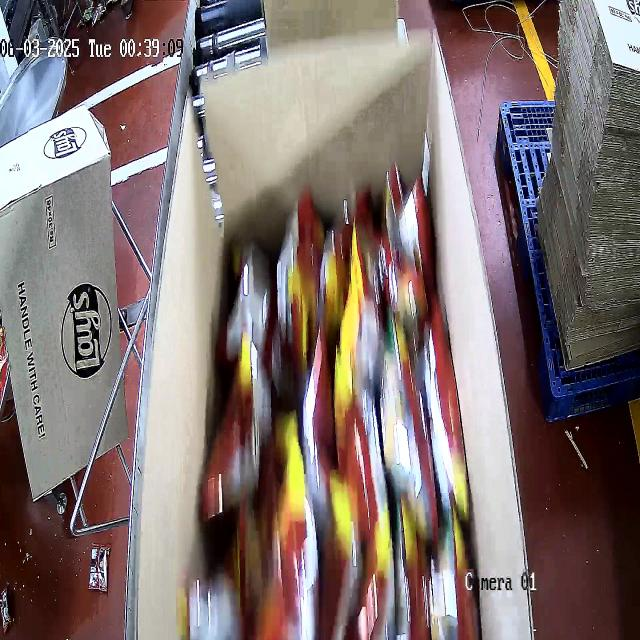MASALA: (195, 151, 477, 638)
